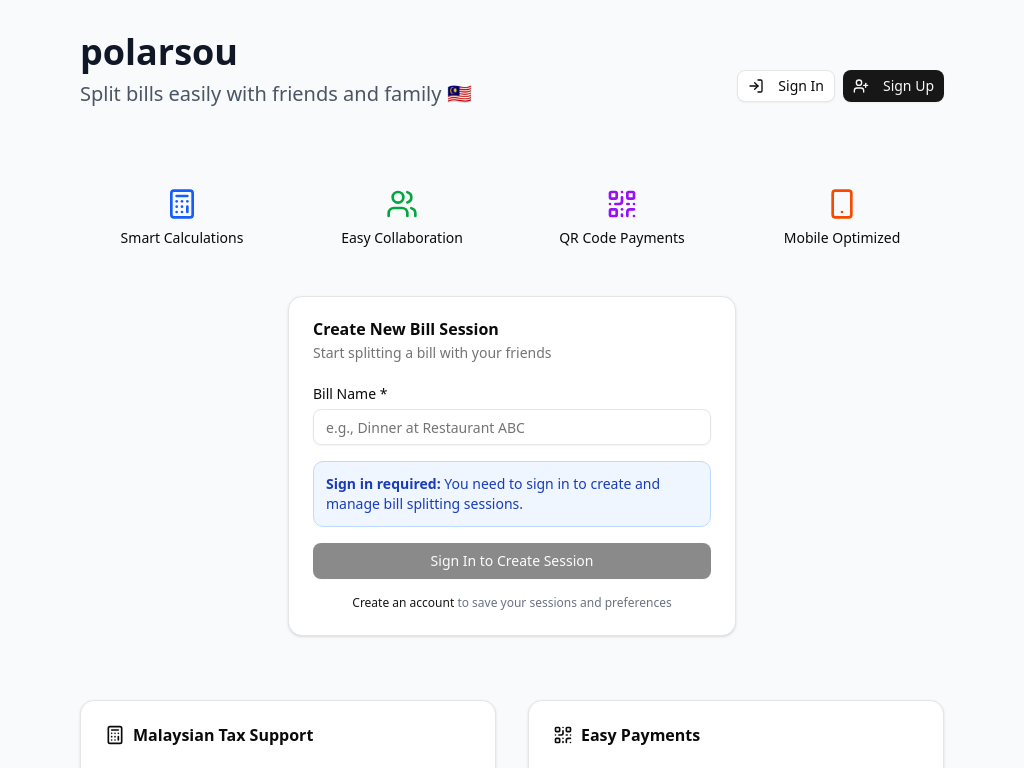
Test: HomePage › Session Creation › should enable create button when bill name is provided
The image size is (1024, 768).
Expected: the button "Sign In to Create Session" is disabled, [313, 543, 711, 579]
Step 1. Type "Test Bill" into the field labelled "Bill Name *" → (512,427), box [313, 409, 711, 445]
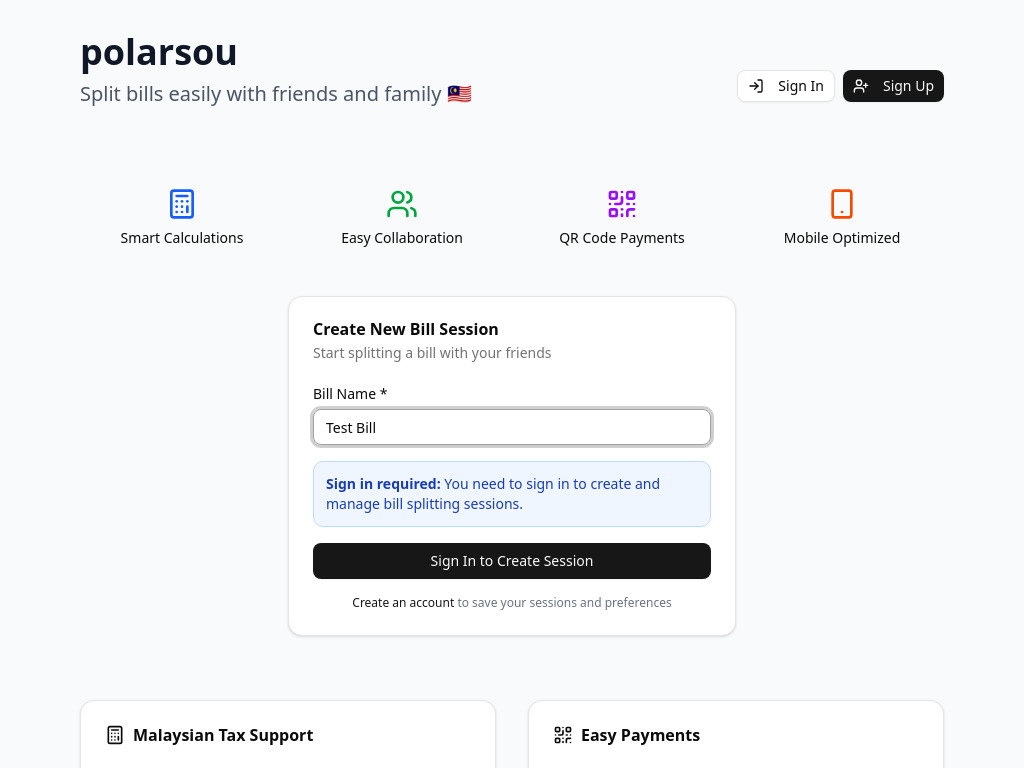
Expected: the button "Sign In to Create Session" is enabled, [313, 543, 711, 579]
